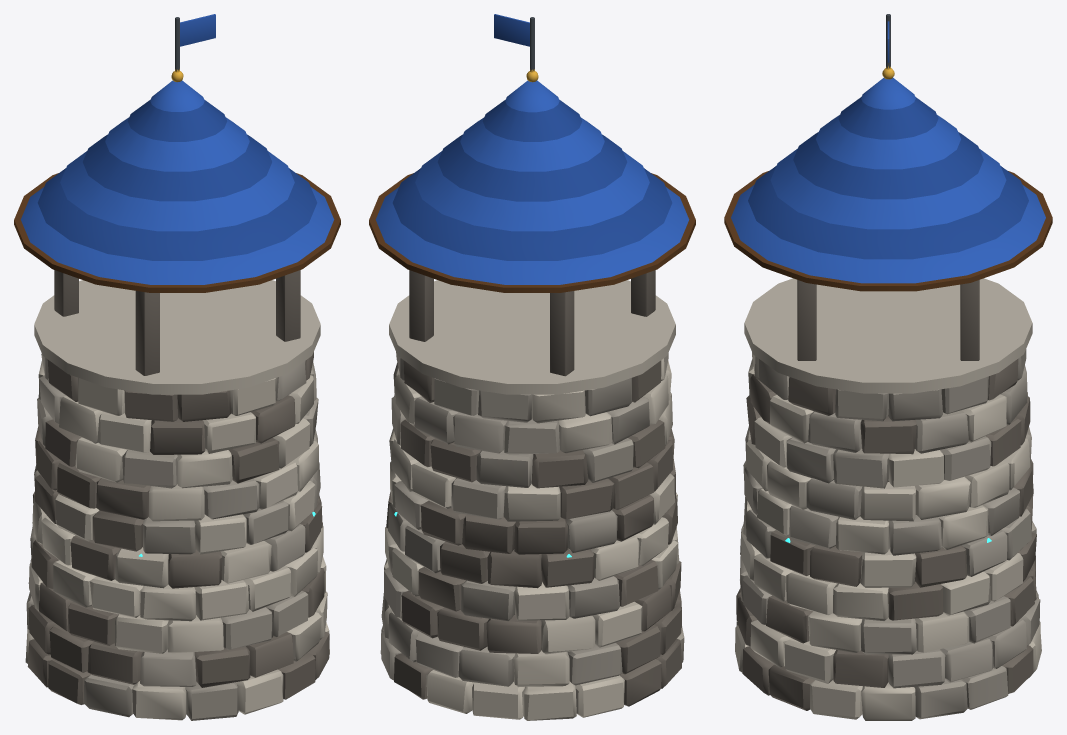
Rendered from naroznik_etap5.glb.
3 views of the same model, side by side, from view 1: azimuth 30°, elevation 25°; view 2: azimuth 150°, elevation 25°; view 3: azimuth 270°, elevation 25° (orthographic).
Visible parts, largest first — view 1: naroznik_etap5; view 2: naroznik_etap5; view 3: naroznik_etap5.
Part boxes in pixels (bbox=[...]): naroznik_etap5: bbox=[14, 14, 340, 720]; naroznik_etap5: bbox=[369, 14, 695, 720]; naroznik_etap5: bbox=[724, 14, 1052, 720].
Bounding box in the file's own units: 6.74 × 14.81 × 6.84.
